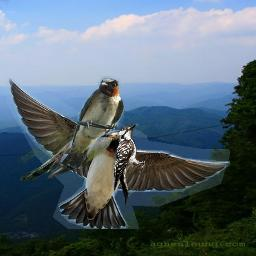Cuckoo: (18, 129, 117, 181)
Swallow: (6, 76, 230, 229), (59, 76, 124, 169)
Woodpecker: (111, 122, 145, 207)
